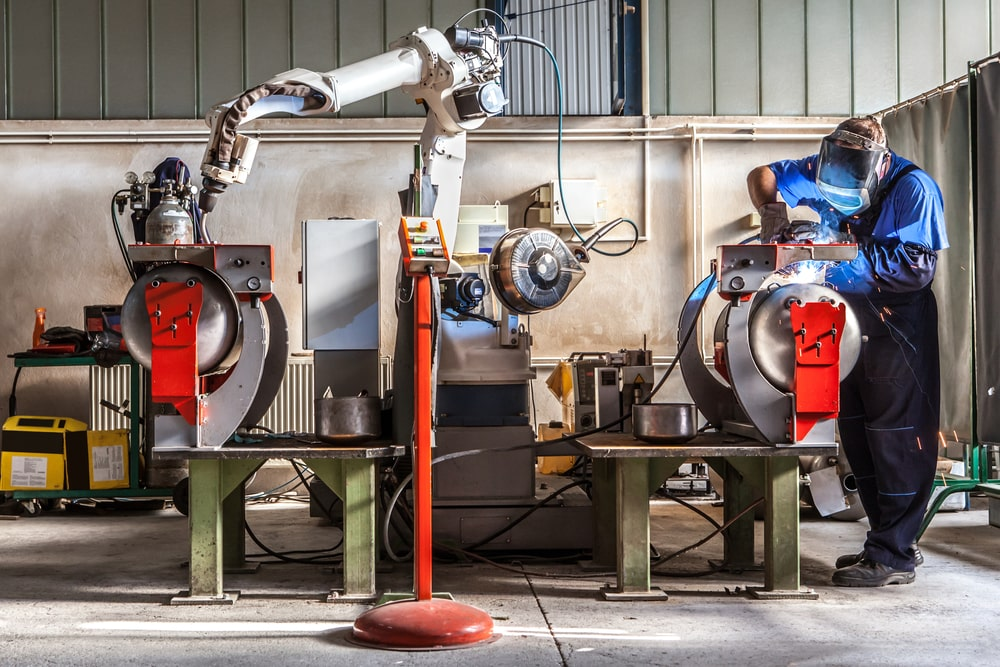person: (745, 114, 948, 588)
robot: (195, 8, 515, 317)
